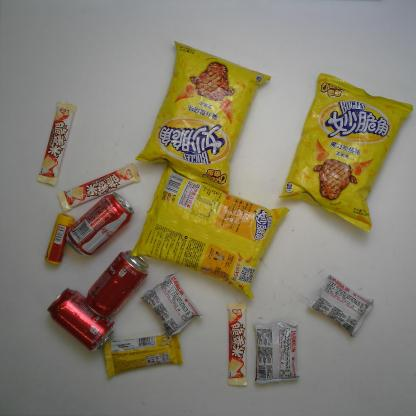Candy: (43, 212, 76, 266)
Chocolate: (56, 160, 140, 212), (102, 332, 184, 378), (35, 102, 76, 185), (228, 303, 248, 387)
Dessert: (140, 271, 205, 341), (306, 275, 375, 336), (254, 323, 300, 384)
Drink: (45, 287, 117, 353), (84, 249, 150, 320), (66, 191, 136, 257)
Puffed Food: (130, 163, 291, 302), (276, 72, 414, 233), (132, 41, 272, 194)
